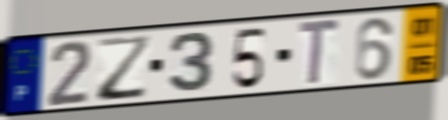2: (46, 38, 96, 109)
3: (166, 30, 218, 95)
5: (230, 25, 268, 90)
6: (353, 14, 396, 83)
T: (296, 16, 343, 89)
Z: (95, 32, 154, 104)
